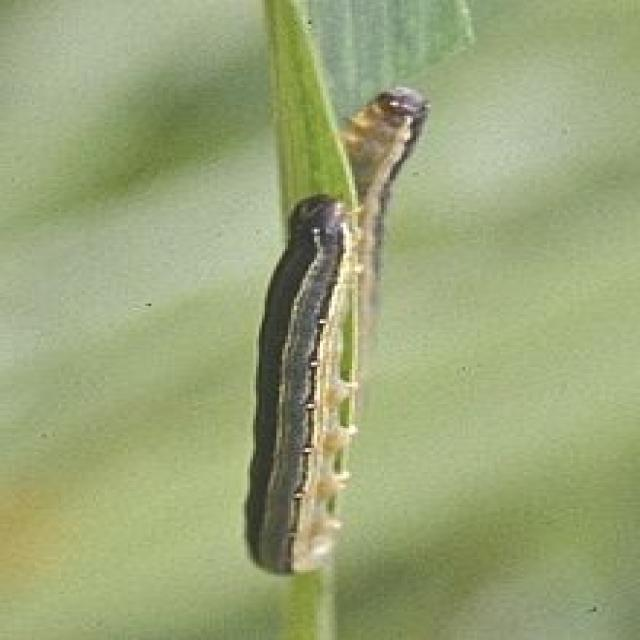armyworm: (239, 84, 429, 577)
